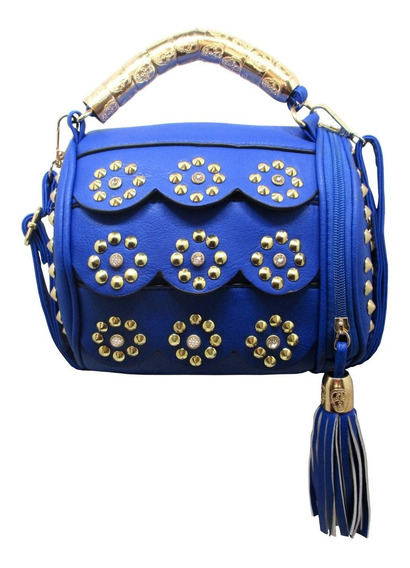cartera: (19, 26, 390, 379)
